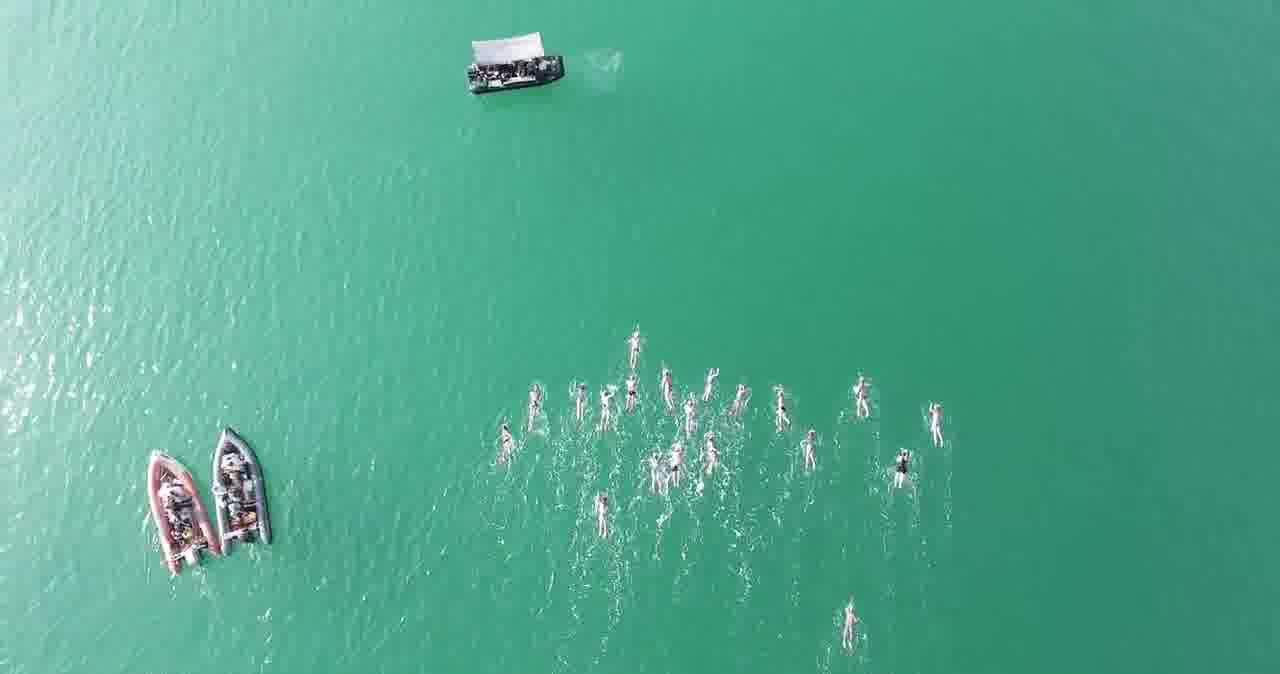swimmer: (932, 393, 951, 454), (801, 422, 822, 472), (851, 368, 869, 418), (620, 374, 642, 414), (631, 322, 648, 370), (841, 600, 858, 646), (596, 493, 614, 534), (679, 398, 698, 436), (700, 372, 715, 410), (501, 420, 512, 466), (777, 382, 786, 430)
